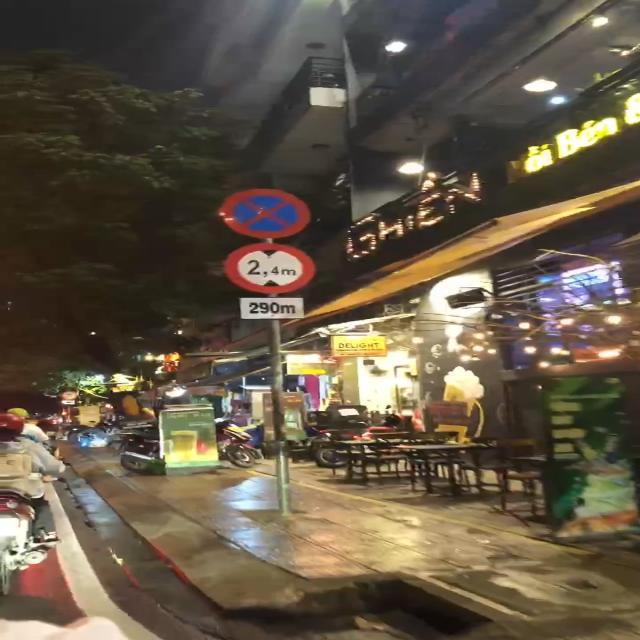Bien bao cam dung xe va do xe: (212, 182, 314, 240)
Bien bao han che chieu cao: (221, 240, 320, 292)
